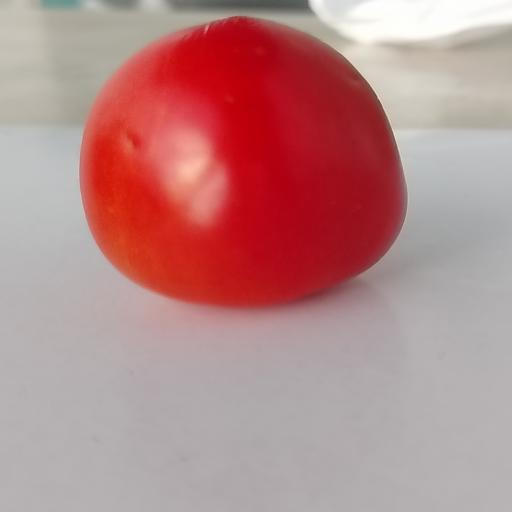ripe: (80, 17, 406, 306)
